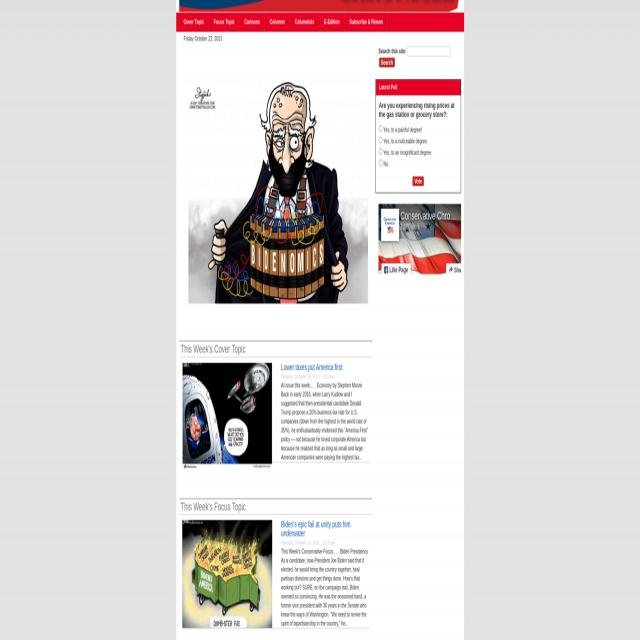button: (188, 63, 368, 304), (182, 363, 272, 471), (182, 520, 272, 628), (378, 203, 461, 278), (345, 13, 387, 31), (381, 208, 399, 242), (176, 13, 209, 31), (210, 13, 240, 31), (290, 12, 319, 30), (240, 12, 264, 30), (265, 13, 289, 30), (320, 13, 344, 30), (382, 264, 411, 278), (446, 264, 461, 276), (379, 58, 395, 67), (412, 176, 424, 186)
field: (407, 46, 451, 58), (378, 136, 382, 144), (379, 148, 383, 156), (379, 160, 382, 167), (379, 126, 382, 132)
